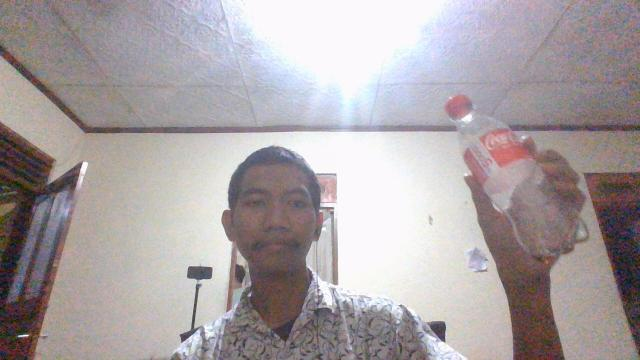coca-cola: (443, 92, 594, 268)
